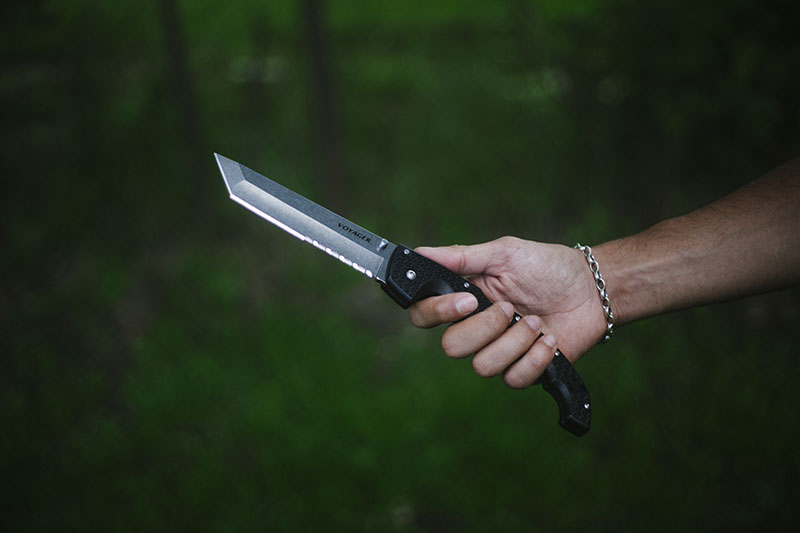knife: (206, 141, 603, 441)
